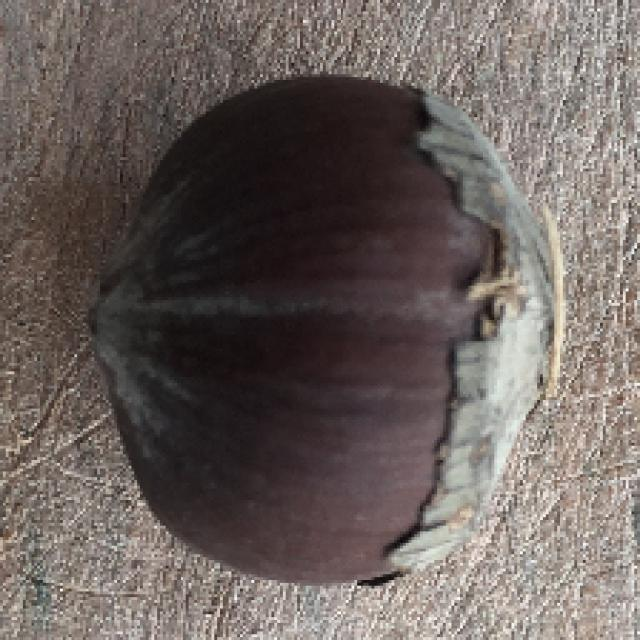damagedHazelnut: (87, 68, 561, 602)
